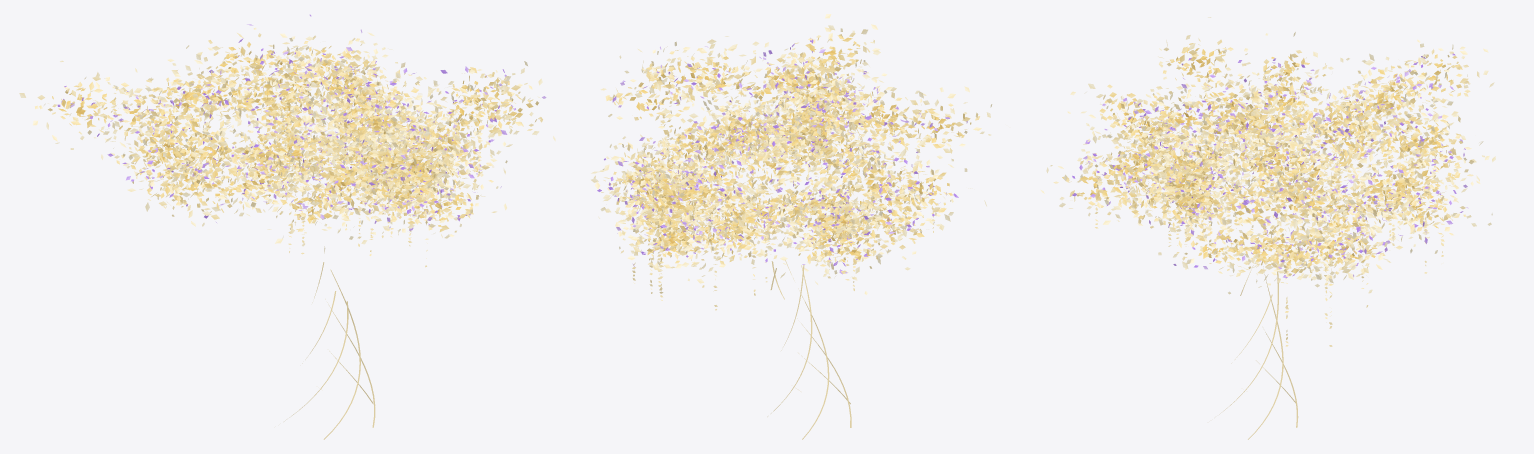
Rendered from holy_canopy3.glb.
The picture shows the model from 3 angles, left to right: view 1: azimuth 30°, elevation 25°; view 2: azimuth 150°, elevation 25°; view 3: azimuth 270°, elevation 25°; orthographic projection.
Parts seen in each view (by area): view 1: holy_canopy3; view 2: holy_canopy3; view 3: holy_canopy3.
Part boxes in pixels (<box>): holy_canopy3: <box>19,14,555,439</box>; holy_canopy3: <box>591,14,992,439</box>; holy_canopy3: <box>1040,17,1495,439</box>.
Bounding box in the file's own units: 33.51 × 29.8 × 34.32.
Materials: 1 (1 with a texture image).
